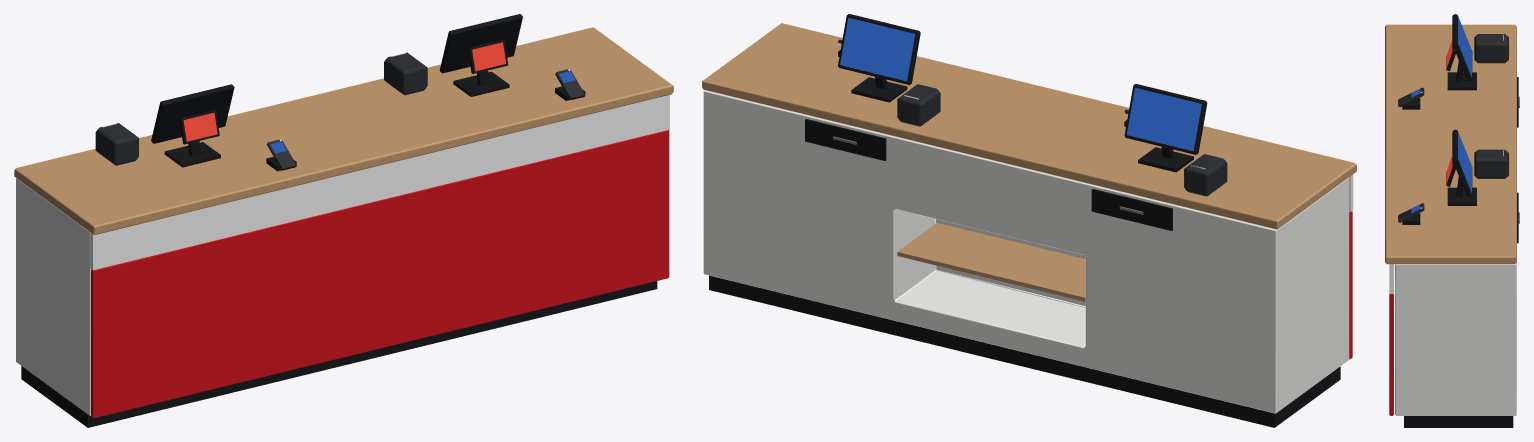
Rendered from pos-counter.lod1.glb.
3 views of the same model, side by side, from view 1: azimuth 30°, elevation 25°; view 2: azimuth 150°, elevation 25°; view 3: azimuth 270°, elevation 25° (orthographic). The views are drawn at different scales.
Visible parts, largest first — view 1: BODY, LABEL, SCREEN; view 2: BODY, SCREEN; view 3: BODY, SCREEN.
Boxes of the visible parts, left/top/right/bottom form: BODY: left=14, top=14, right=673, bottom=427; LABEL: left=97, top=134, right=666, bottom=415; SCREEN: left=183, top=42, right=575, bottom=153; BODY: left=702, top=14, right=1356, bottom=427; SCREEN: left=840, top=17, right=1201, bottom=151; BODY: left=1385, top=14, right=1519, bottom=427; SCREEN: left=1411, top=16, right=1471, bottom=212.
Size of the model in its own units: 3.02 by 1.38 by 0.7399.
